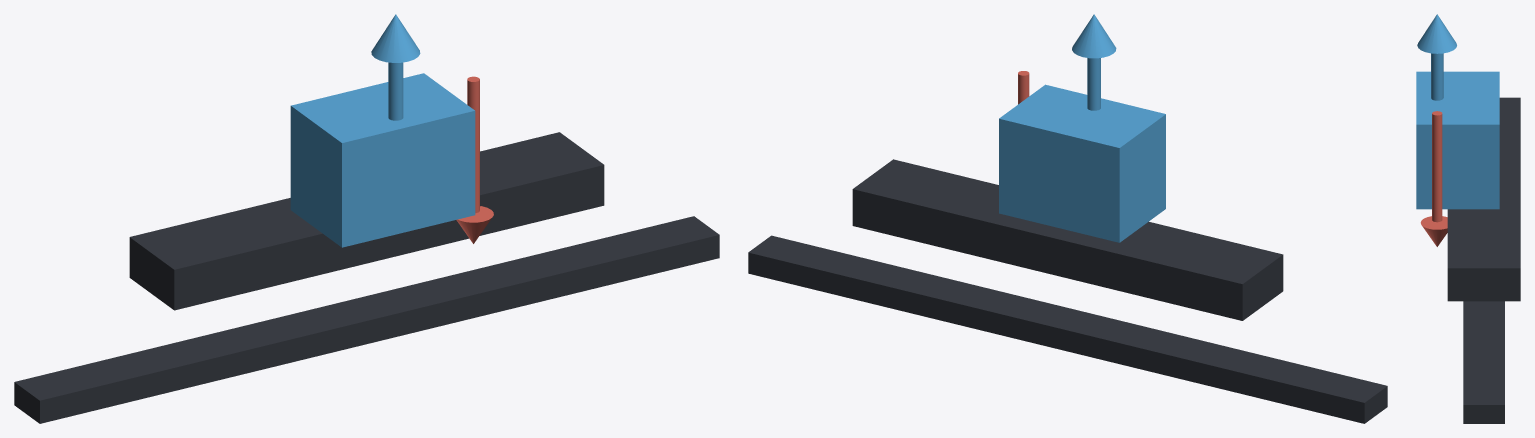
The model's file is physics-p1-normal-force.glb.
3 renders of one model, left to right at view 1: azimuth 30°, elevation 25°; view 2: azimuth 150°, elevation 25°; view 3: azimuth 270°, elevation 25°, orthographic. The views are drawn at different scales.
Visible parts, largest first — view 1: mechanics-bench-reference-base, supporting-table-surface, object-resting-on-surface, normal-force-up-from-surface-head, weight-down-balanced-by-normal-shaft, normal-force-up-from-surface-shaft, weight-down-balanced-by-normal-head; view 2: mechanics-bench-reference-base, supporting-table-surface, object-resting-on-surface, normal-force-up-from-surface-head, normal-force-up-from-surface-shaft; view 3: object-resting-on-surface, supporting-table-surface, mechanics-bench-reference-base, weight-down-balanced-by-normal-shaft, normal-force-up-from-surface-head, normal-force-up-from-surface-shaft, weight-down-balanced-by-normal-head.
Part boxes in pixels (x1,y1,x2,y2): mechanics-bench-reference-base: (14, 216, 719, 423); supporting-table-surface: (129, 132, 604, 310); object-resting-on-surface: (290, 73, 475, 247); normal-force-up-from-surface-head: (371, 14, 420, 62); weight-down-balanced-by-normal-shaft: (467, 76, 479, 213); normal-force-up-from-surface-shaft: (388, 62, 403, 120); weight-down-balanced-by-normal-head: (456, 206, 493, 243); mechanics-bench-reference-base: (748, 235, 1387, 423); supporting-table-surface: (852, 159, 1283, 320); object-resting-on-surface: (999, 84, 1165, 242); normal-force-up-from-surface-head: (1072, 14, 1116, 58); normal-force-up-from-surface-shaft: (1087, 58, 1100, 110); object-resting-on-surface: (1416, 71, 1499, 209); supporting-table-surface: (1447, 97, 1520, 301); mechanics-bench-reference-base: (1463, 301, 1504, 423); weight-down-balanced-by-normal-shaft: (1432, 111, 1442, 222); normal-force-up-from-surface-head: (1417, 14, 1456, 53); normal-force-up-from-surface-shaft: (1431, 53, 1443, 100); weight-down-balanced-by-normal-head: (1420, 216, 1447, 246).
Size of what is drawn, in the model's own units: 2.45 by 1.17 by 0.4.
